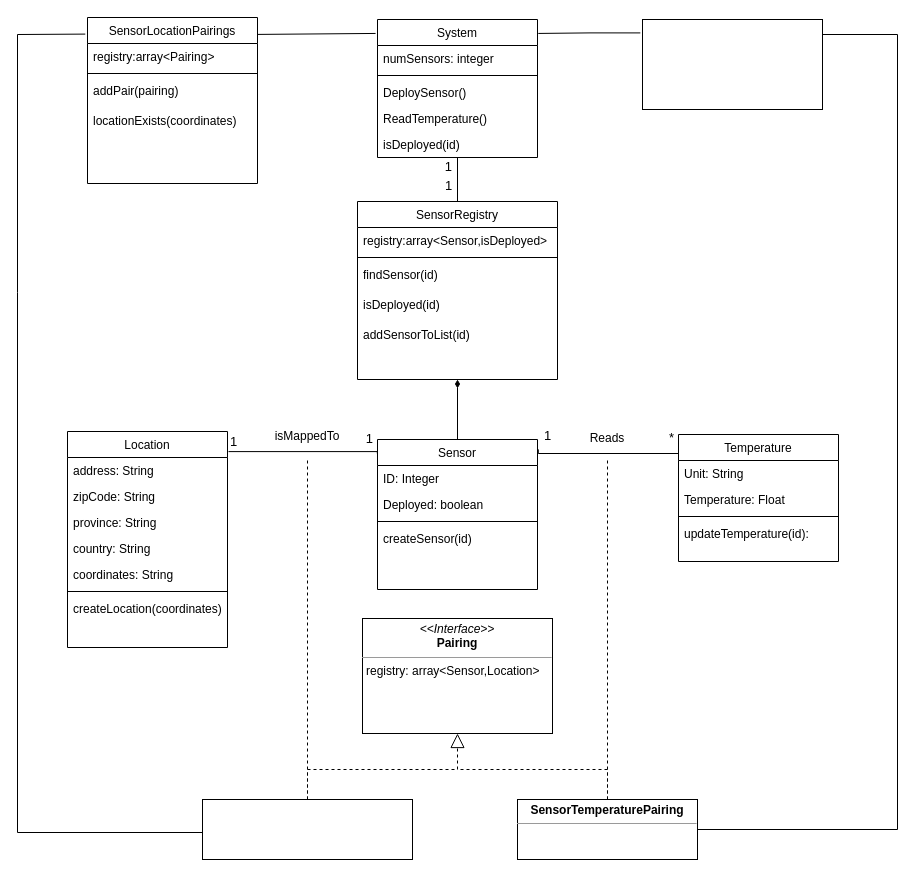
This 916x877 diagram has some shape labels left out. Here are the shapes that lost their labels. From the top down, the centre of each, then its label:
At point (732, 64): "SensorTemperaturePairings registry: array<Pairing> addPair(pairing)".
At point (307, 829): "SensorLocationPairing createPairing(Sensor,Location)".
